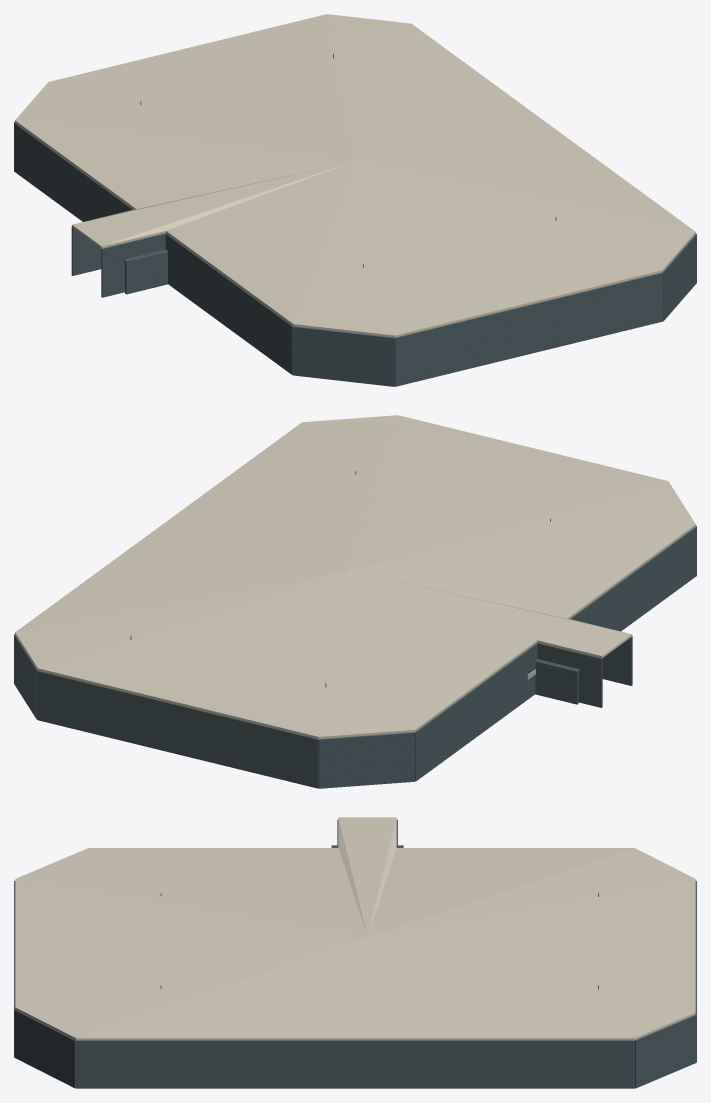
File: SOL_D05_directory_04_source001.glb
The picture shows the model from 3 angles, top to bottom: view 1: azimuth 30°, elevation 25°; view 2: azimuth 150°, elevation 25°; view 3: azimuth 270°, elevation 25°; orthographic projection. The views are drawn at different scales.
Parts seen in each view (by area): view 1: Pod0_Folded_roof_5, Pod0_Folded_roof_7, Pod0_Folded_roof_3, Pod0_Folded_roof_9, Enclosure_0_7, Pod0_Folded_roof_1, Pod0_Folded_roof_8, Pod0_Folded_roof_6, Pod0_Folded_roof_2, Enclosure_0_9, Pod0_Folded_roof_4, Enclosure_0_8 (+7 smaller); view 2: Pod0_Folded_roof_5, Pod0_Folded_roof_3, Pod0_Folded_roof_7, Enclosure_0_3, Pod0_Folded_roof_9, Pod0_Folded_roof_1, Pod0_Folded_roof_8, Pod0_Folded_roof_2, Pod0_Folded_roof_6, Pod0_Folded_roof_4, Enclosure_0_1, Enclosure_0_9 (+7 smaller); view 3: Pod0_Folded_roof_5, Enclosure_0_5, Pod0_Folded_roof_7, Pod0_Folded_roof_3, Pod0_Folded_roof_9, Pod0_Folded_roof_1, Pod0_Folded_roof_6, Pod0_Folded_roof_8, Pod0_Folded_roof_2, Pod0_Folded_roof_4, Pod0_Folded_roof_11, Enclosure_0_6 (+3 smaller).
Part boxes in pixels (bbox=[...]): Pod0_Folded_roof_5: bbox=[355, 24, 695, 231]; Pod0_Folded_roof_7: bbox=[354, 161, 662, 337]; Pod0_Folded_roof_3: bbox=[49, 14, 354, 161]; Pod0_Folded_roof_9: bbox=[166, 161, 354, 325]; Enclosure_0_7: bbox=[394, 272, 662, 386]; Pod0_Folded_roof_1: bbox=[15, 120, 353, 209]; Pod0_Folded_roof_8: bbox=[293, 162, 394, 337]; Pod0_Folded_roof_6: bbox=[356, 161, 695, 271]; Pod0_Folded_roof_2: bbox=[15, 82, 353, 161]; Enclosure_0_9: bbox=[165, 233, 293, 374]; Pod0_Folded_roof_4: bbox=[327, 14, 410, 160]; Enclosure_0_8: bbox=[293, 326, 394, 386]; Pod0_Folded_roof_5: bbox=[15, 422, 346, 632]; Pod0_Folded_roof_3: bbox=[38, 570, 346, 738]; Pod0_Folded_roof_7: bbox=[347, 415, 667, 569]; Enclosure_0_3: bbox=[37, 670, 318, 788]; Pod0_Folded_roof_9: bbox=[348, 524, 695, 618]; Pod0_Folded_roof_1: bbox=[347, 570, 537, 731]; Pod0_Folded_roof_8: bbox=[349, 481, 695, 569]; Pod0_Folded_roof_2: bbox=[319, 571, 414, 739]; Pod0_Folded_roof_6: bbox=[302, 415, 397, 569]; Pod0_Folded_roof_4: bbox=[15, 570, 345, 669]; Enclosure_0_1: bbox=[415, 643, 537, 781]; Enclosure_0_9: bbox=[570, 527, 696, 631]; Pod0_Folded_roof_5: bbox=[76, 937, 634, 1040]; Enclosure_0_5: bbox=[76, 1040, 634, 1088]; Pod0_Folded_roof_7: bbox=[15, 879, 366, 1007]; Pod0_Folded_roof_3: bbox=[368, 879, 695, 1012]; Pod0_Folded_roof_9: bbox=[88, 848, 367, 936]; Pod0_Folded_roof_1: bbox=[367, 848, 634, 936]; Pod0_Folded_roof_6: bbox=[15, 937, 366, 1039]; Pod0_Folded_roof_8: bbox=[15, 848, 365, 936]; Pod0_Folded_roof_2: bbox=[369, 848, 695, 936]; Pod0_Folded_roof_4: bbox=[369, 937, 695, 1040]; Pod0_Folded_roof_11: bbox=[338, 817, 396, 936]; Enclosure_0_6: bbox=[14, 1009, 75, 1088].
Bounding box in the file's own units: 43.1 × 5.35 × 56.2.
10 materials, 10 textured.
